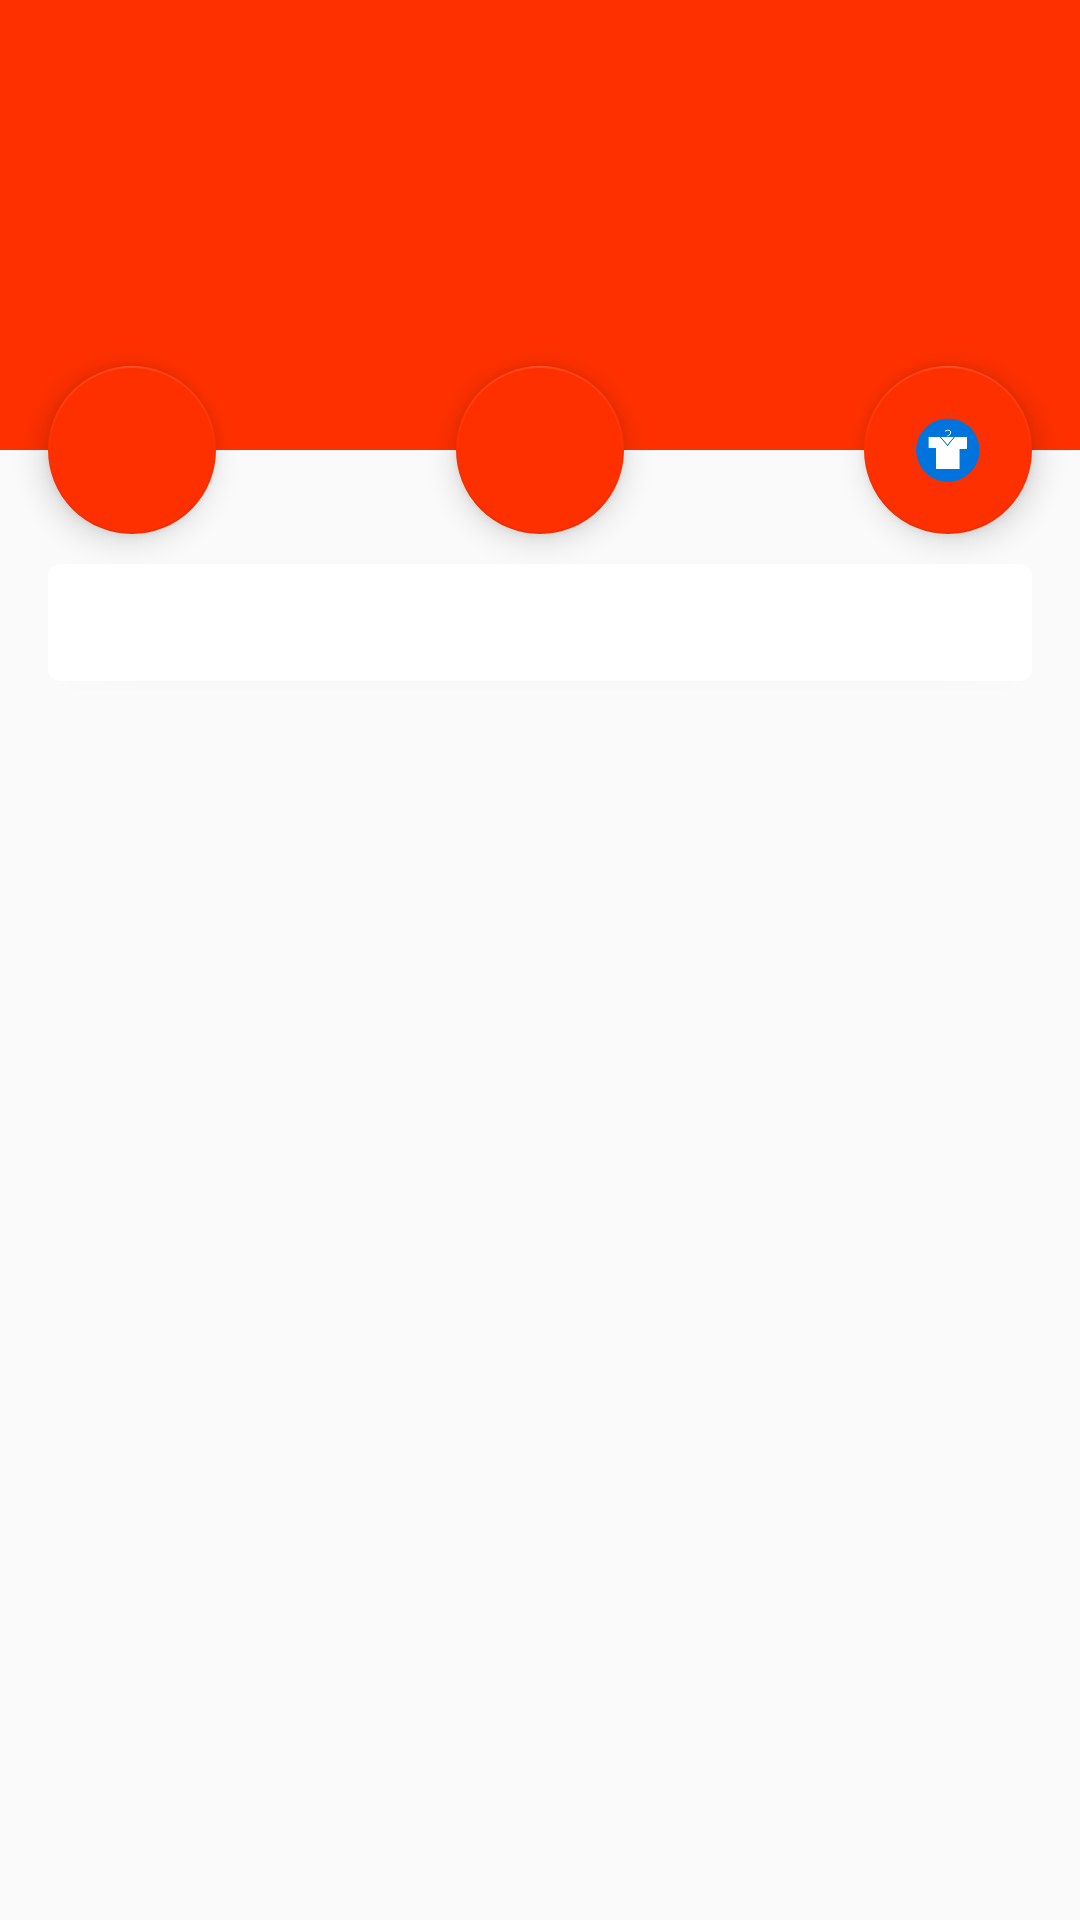

Screen size 1080px×1920px. Icon name, then its center in pixels as (x,y):
xuanfu: (948,450)
